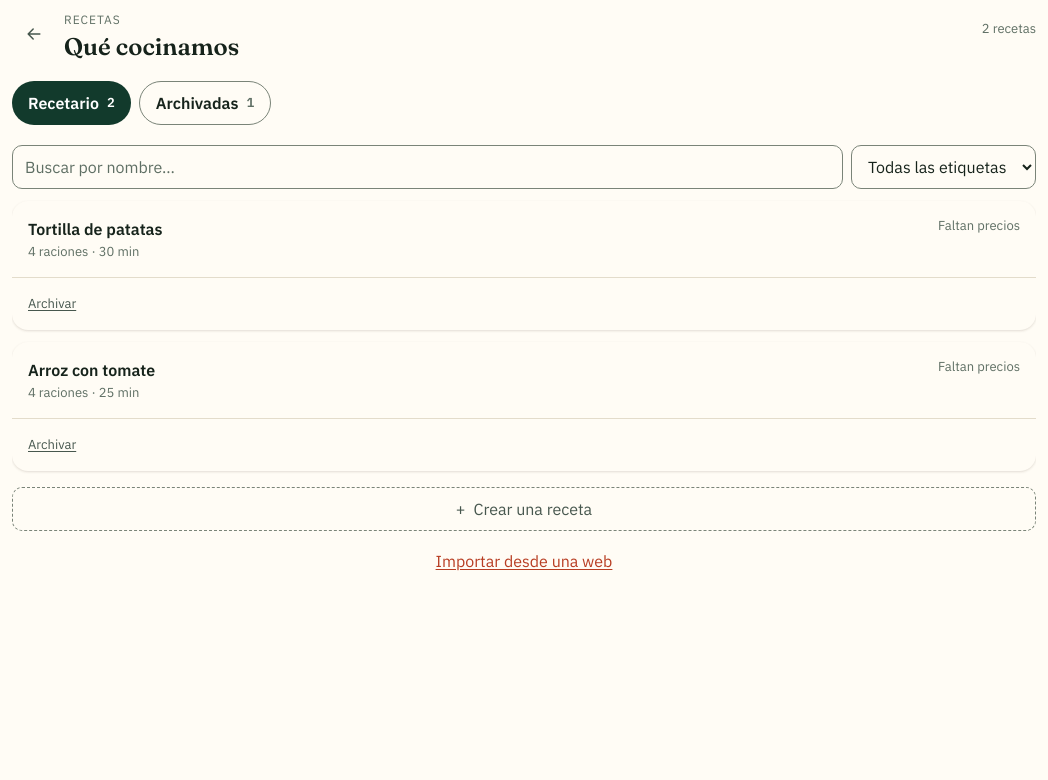
Test: Recetario · la cabecera, las pestanas y las tarjetas › *** «Archivadas» enseña las archivadas y esconde las demas ***
The image size is (1048, 780).
Expected: the heading "Qué cocinamos" is shown, x1=64 y1=32 x2=239 y2=61
What coordinates should you click on to do the following:
click the tab "Archivadas 1"
I would click on:
 (205, 103)
Its box is x1=139 y1=81 x2=271 y2=125.
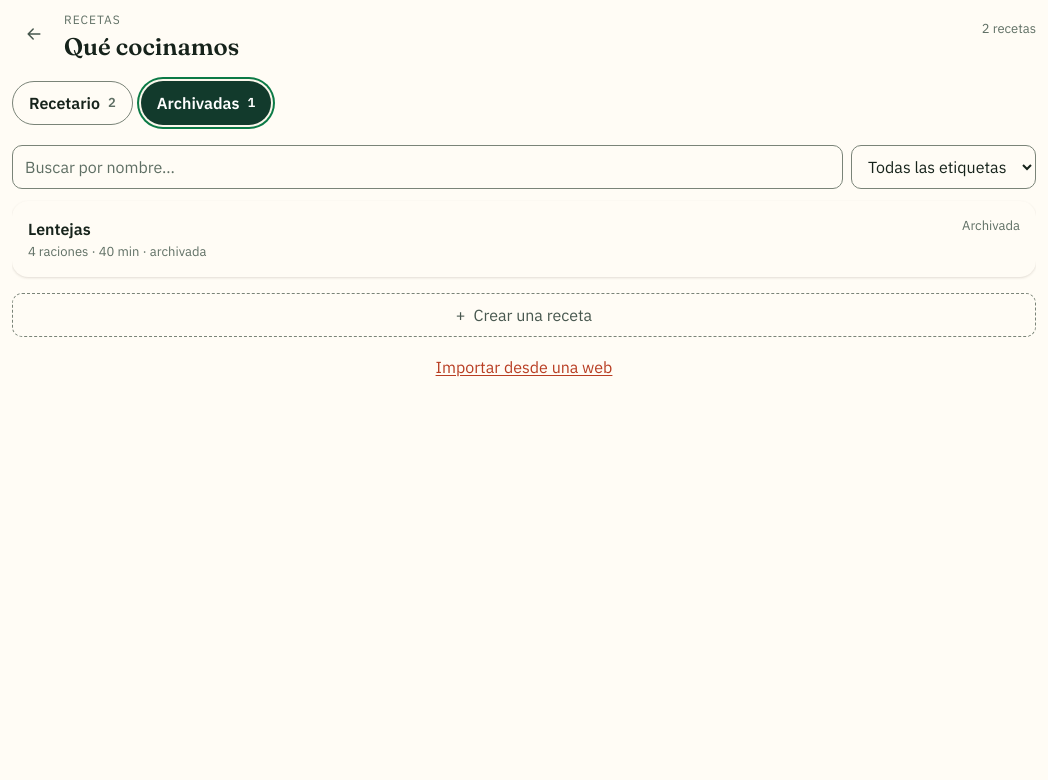
Expected: the link "Tortilla de patatas" is gone
Expected: the text "4 raciones · 40 min · archivada" is shown, x1=28 y1=243 x2=206 y2=261
Expected: the text "Archivada" is shown, x1=962 y1=217 x2=1020 y2=235
